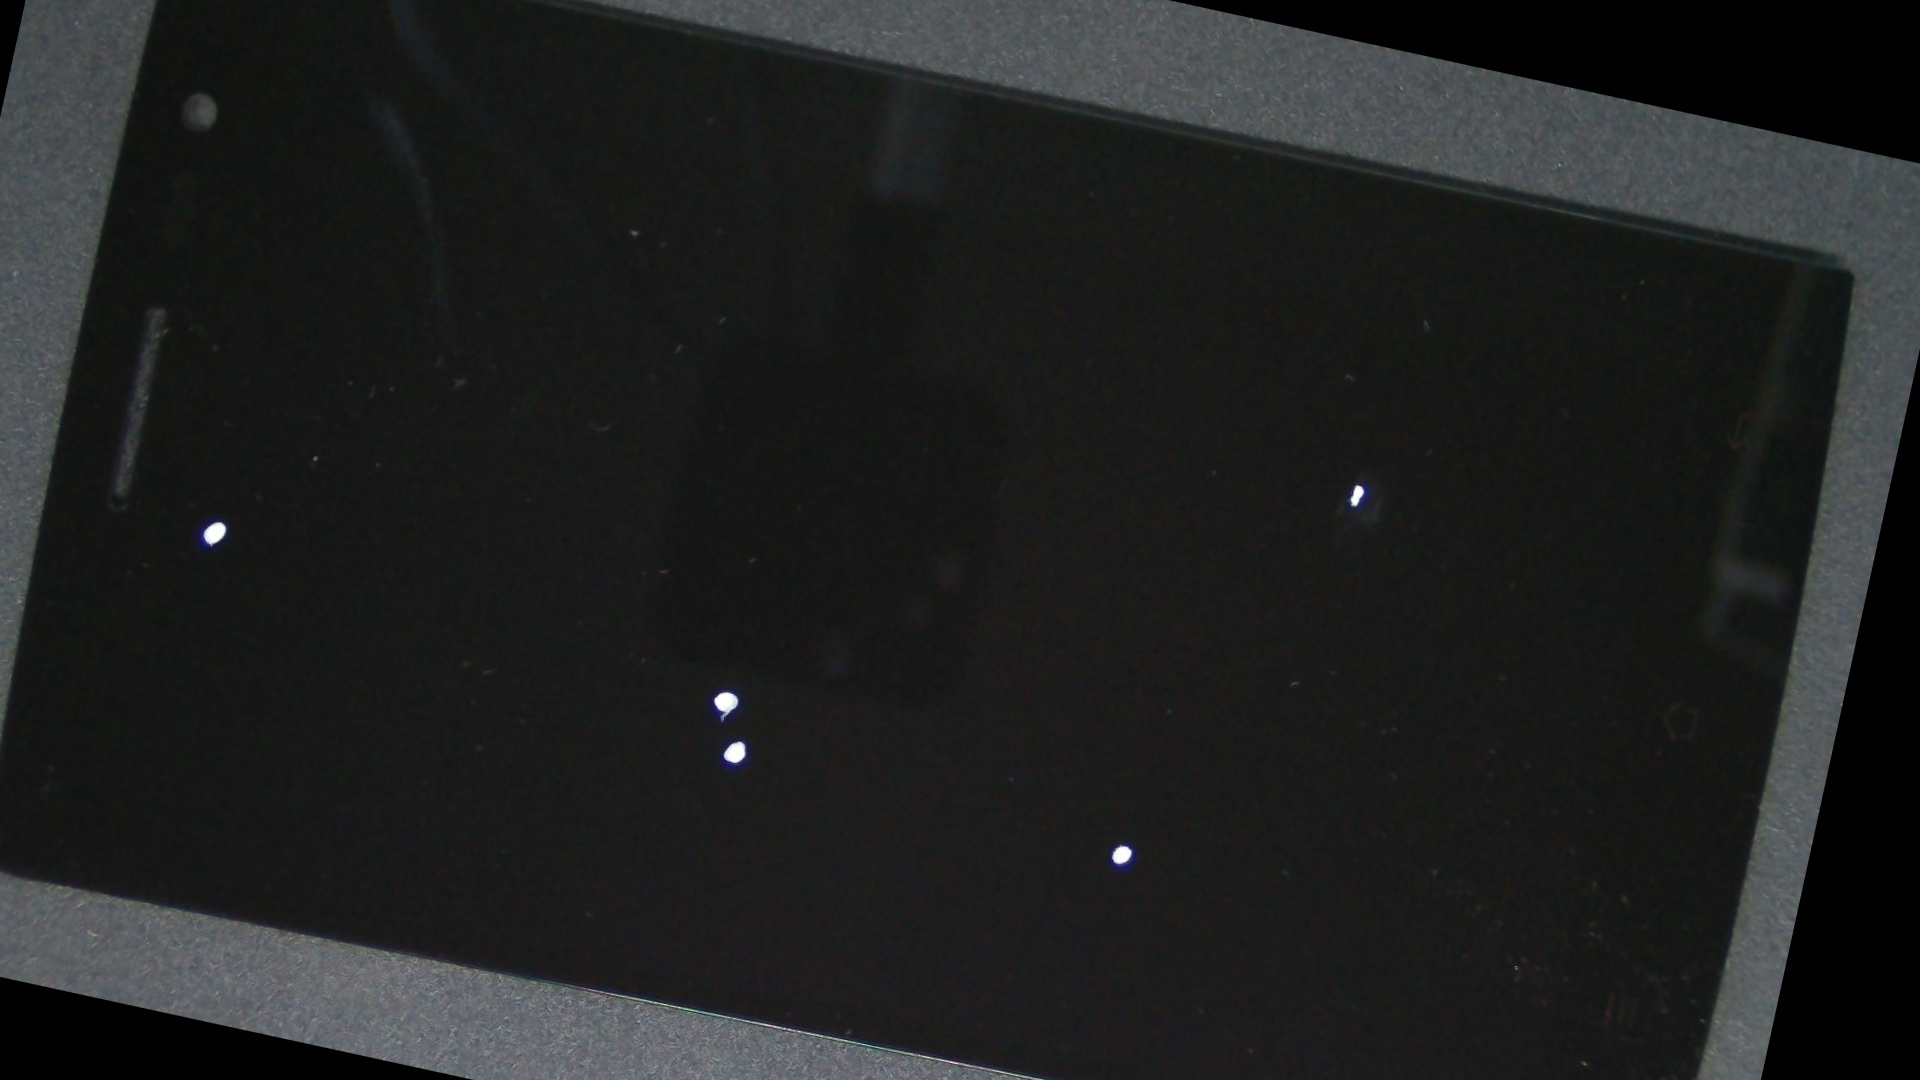oil: (433, 302, 1821, 1080), (626, 123, 1912, 804), (240, 251, 1242, 1080), (239, 225, 1211, 1080), (0, 141, 444, 899)
